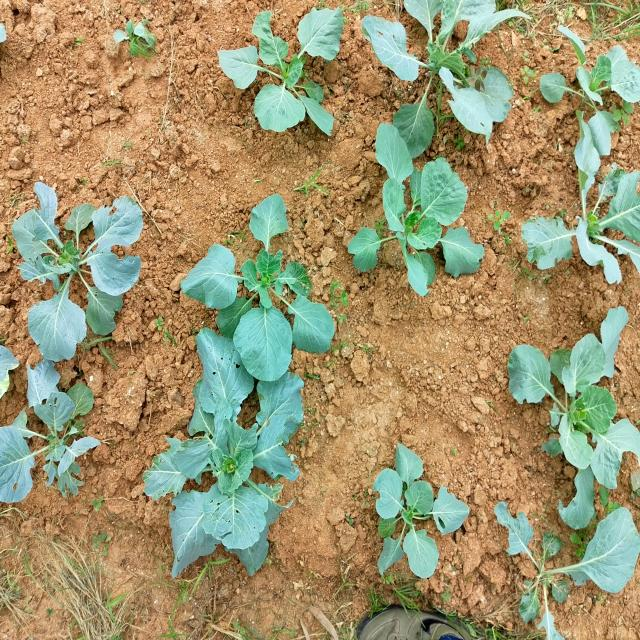Cabbage: (138, 361, 305, 585), (186, 196, 351, 410), (6, 165, 151, 366), (511, 315, 635, 515), (344, 136, 491, 298), (367, 2, 522, 131), (220, 0, 346, 142), (0, 355, 105, 511), (540, 31, 637, 183), (370, 438, 470, 580), (554, 140, 638, 288)
